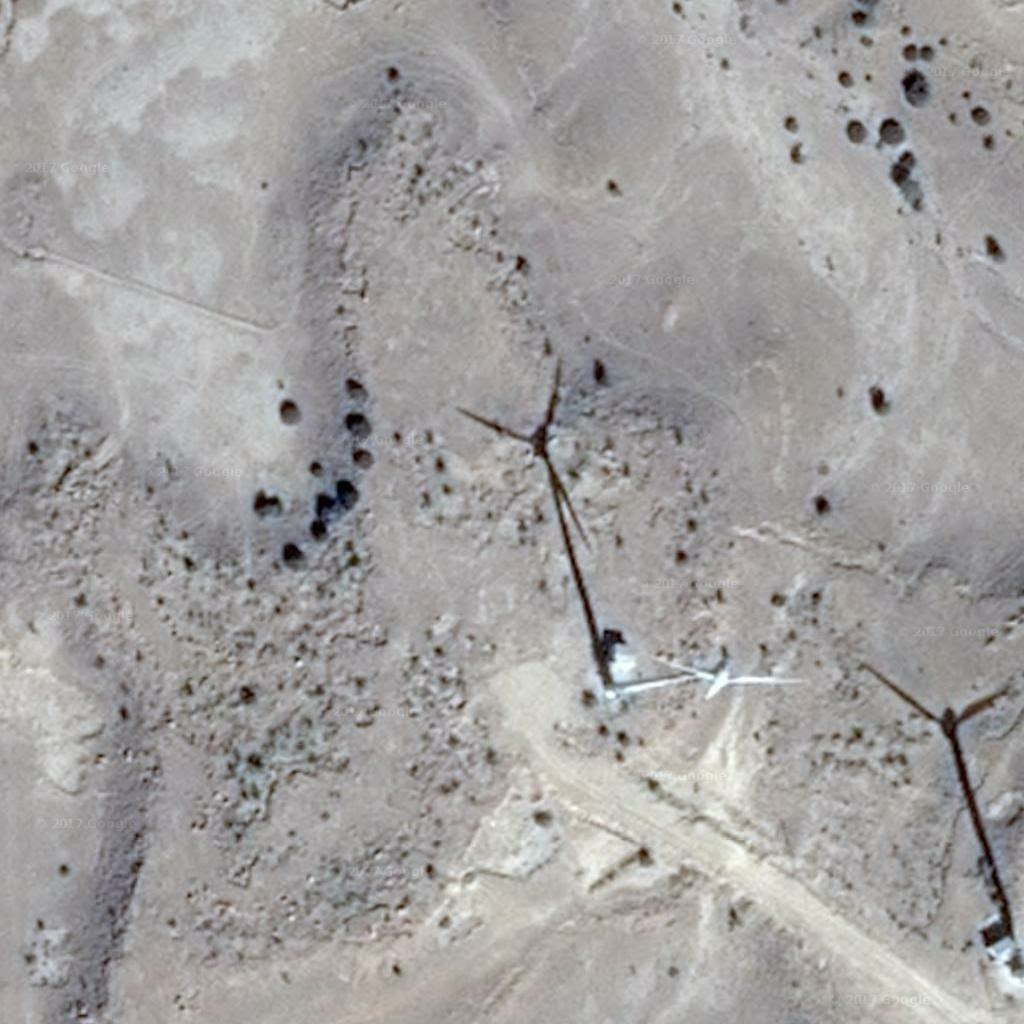Windmill: (453, 372, 623, 679)
